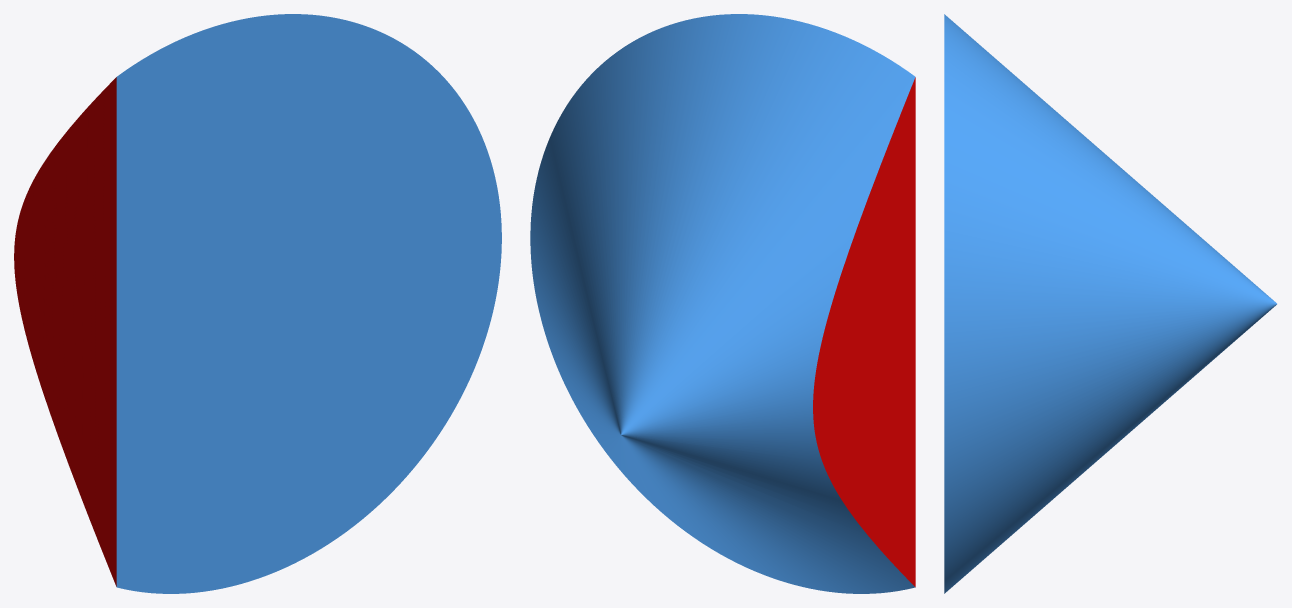
3 views of the same model, side by side, from view 1: azimuth 30°, elevation 25°; view 2: azimuth 150°, elevation 25°; view 3: azimuth 270°, elevation 25° (orthographic). The views are drawn at different scales.
Parts seen in each view (by area): view 1: 拉伸1; view 2: 拉伸1; view 3: 拉伸1.
Part boxes in pixels (bbox=[...]): 拉伸1: bbox=[14, 14, 501, 593]; 拉伸1: bbox=[530, 14, 915, 593]; 拉伸1: bbox=[944, 14, 1276, 593].
Bounding box in the file's own units: 2.7 × 3.79 × 2.18.
